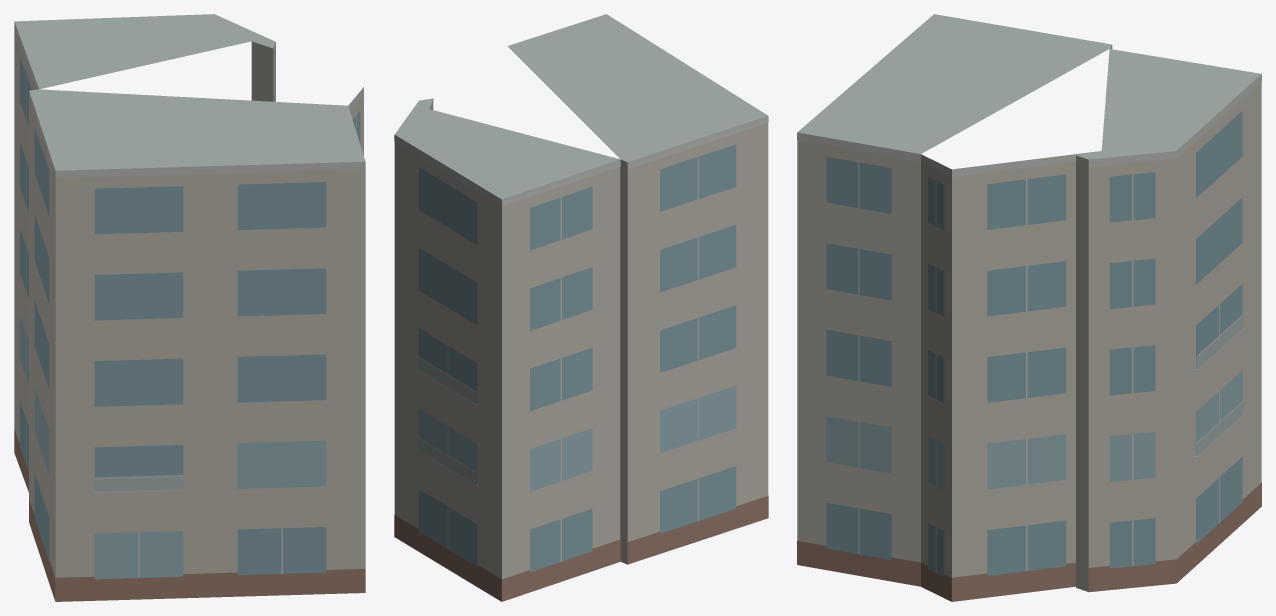
File: survey-upis-32958894.glb
3 renders of one model, left to right at view 1: azimuth 30°, elevation 25°; view 2: azimuth 150°, elevation 25°; view 3: azimuth 270°, elevation 25°, orthographic. The views are drawn at different scales.
Visible parts, largest first — view 1: survey-upis-32958894.tmp; view 2: survey-upis-32958894.tmp; view 3: survey-upis-32958894.tmp.
Boxes of the visible parts, left/top/right/bottom form: survey-upis-32958894.tmp: left=14, top=14, right=365, bottom=601; survey-upis-32958894.tmp: left=394, top=14, right=768, bottom=601; survey-upis-32958894.tmp: left=797, top=14, right=1261, bottom=601.
Bounding box in the file's own units: 10.78 × 13.98 × 13.62.
